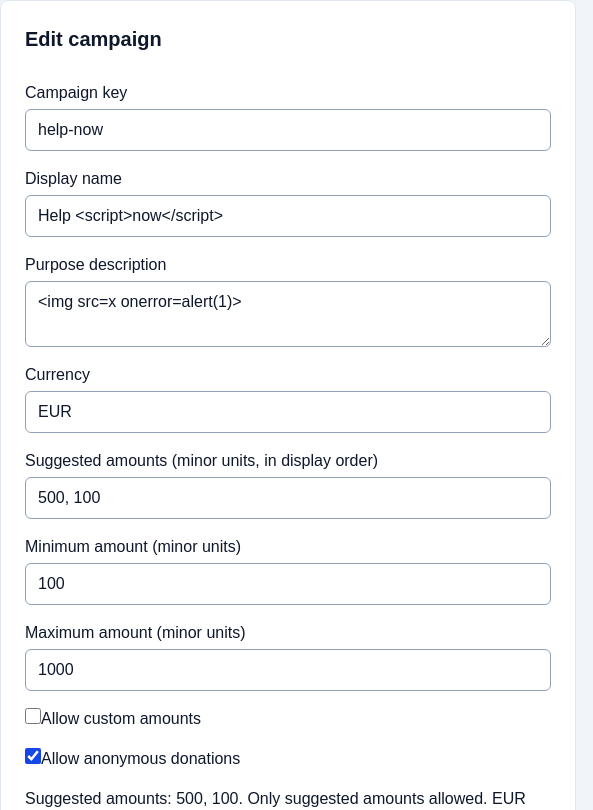
Test case: rejects invalid suggested amounts  before sending
Clear the field labelled "Suggested amounts (minor units, in display order)" at {"x": 288, "y": 498}, box [25,477,551,519]
(page scrolled)
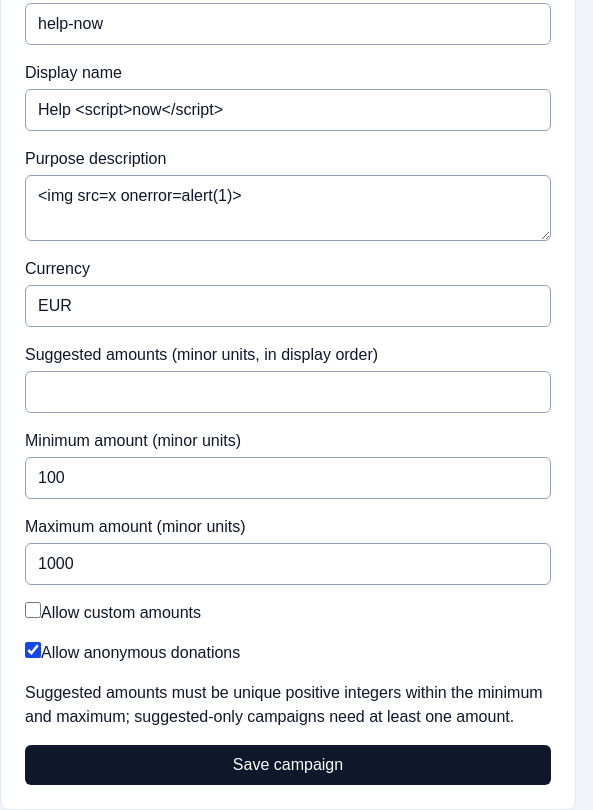
Click the button "Save campaign" at {"x": 288, "y": 765}, box [25,745,551,785]
(page scrolled)
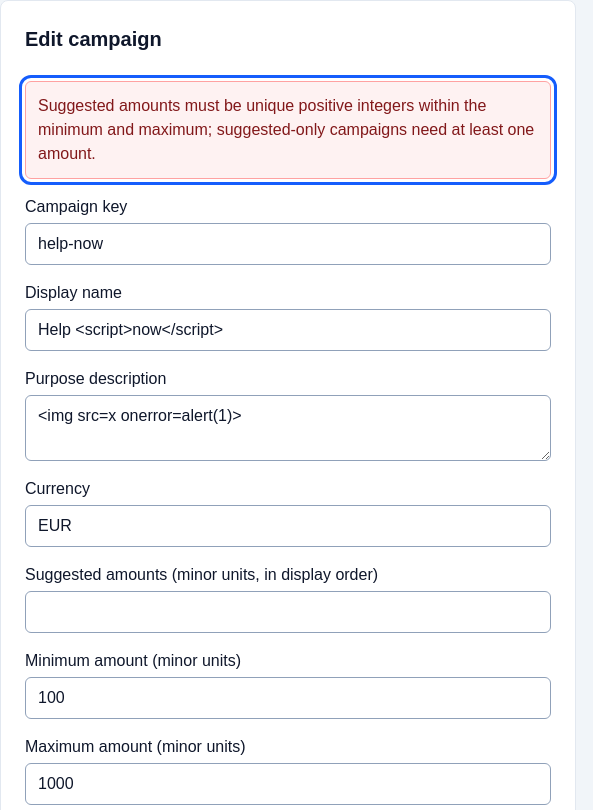
Expected: the message shows "amount", [38,97,534,162]
